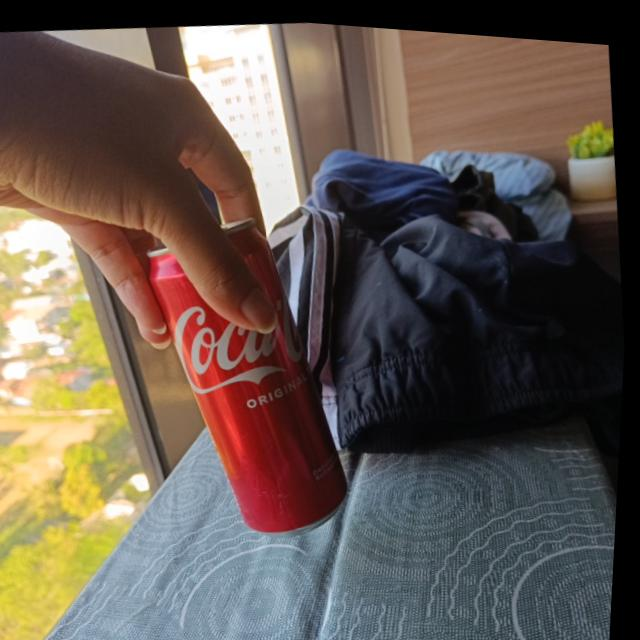coke: (136, 206, 366, 543)
